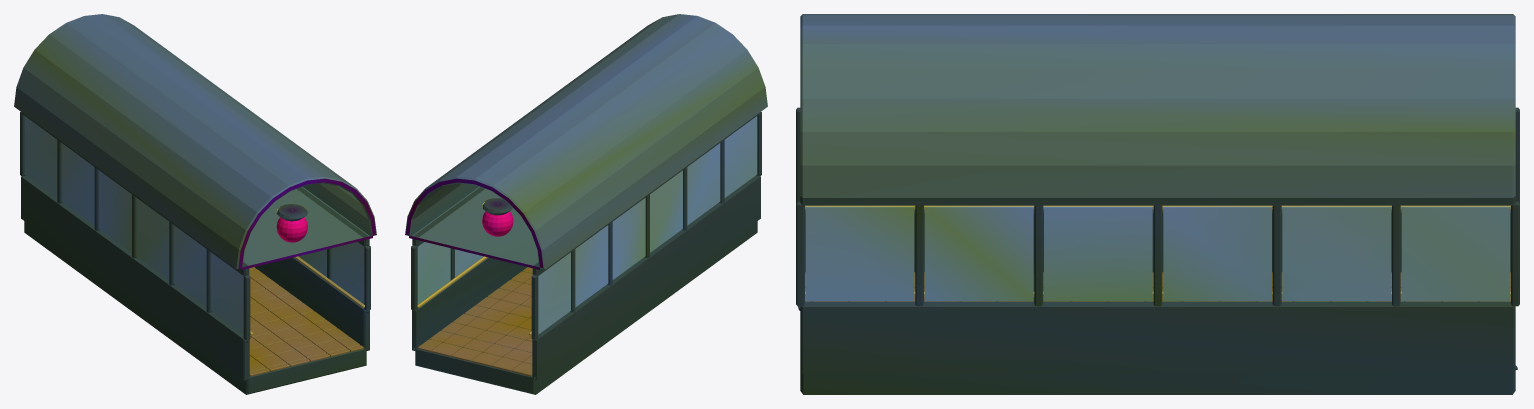
Rendered from GS_Footbridge_Span.glb.
3 renders of one model, left to right at view 1: azimuth 30°, elevation 25°; view 2: azimuth 150°, elevation 25°; view 3: azimuth 270°, elevation 25°, orthographic. The views are drawn at different scales.
Parts seen in each view (by area): view 1: GS_Footbridge_Span; view 2: GS_Footbridge_Span; view 3: GS_Footbridge_Span.
Part boxes in pixels (x1,y1,x2,y2): GS_Footbridge_Span: (14, 14, 376, 394); GS_Footbridge_Span: (405, 14, 767, 394); GS_Footbridge_Span: (796, 14, 1519, 394).
Bounding box in the file's own units: 3.5 × 4.8 × 9.77.
